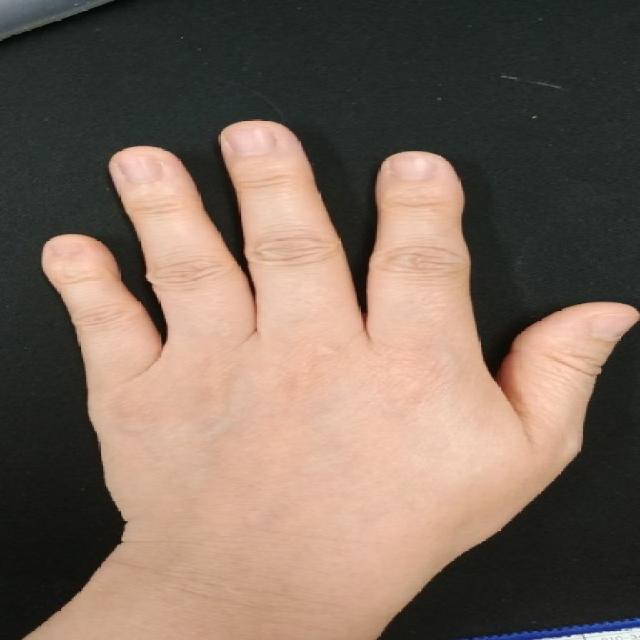Nail: (221, 124, 278, 156), (590, 308, 640, 340), (113, 151, 163, 182), (392, 154, 437, 180), (45, 239, 83, 256)
